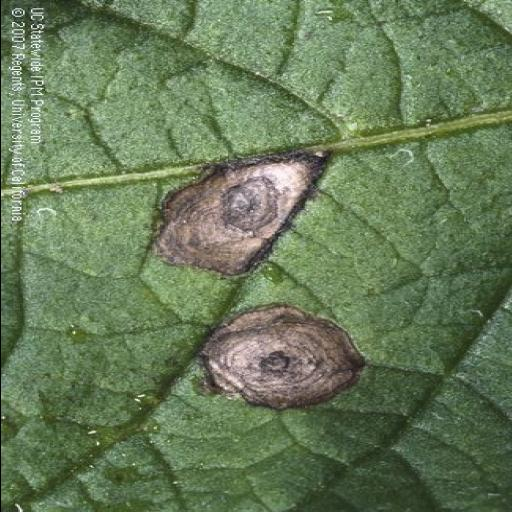disease_tomato: (0, 1, 511, 512)
